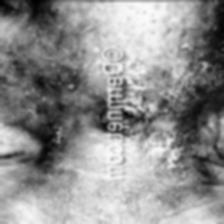Potentially Malignant Skin Tumors: (120, 60, 186, 170)
